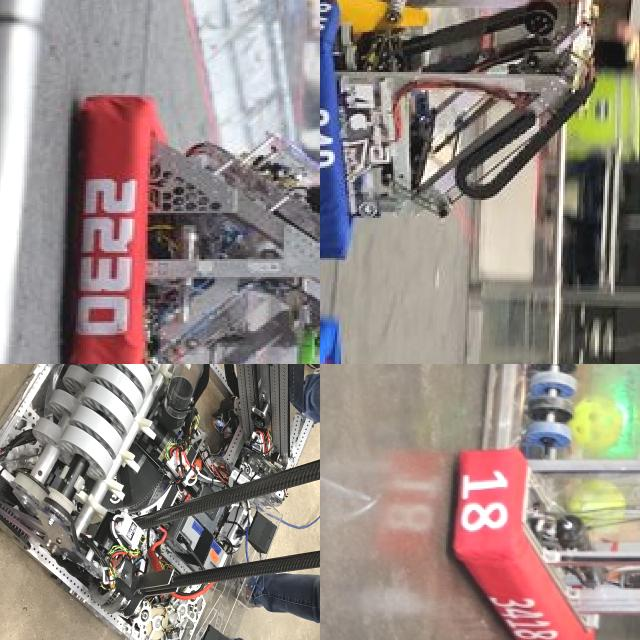FRC-Robots: (320, 0, 601, 318), (0, 364, 320, 640), (356, 364, 640, 640), (54, 80, 320, 364)
